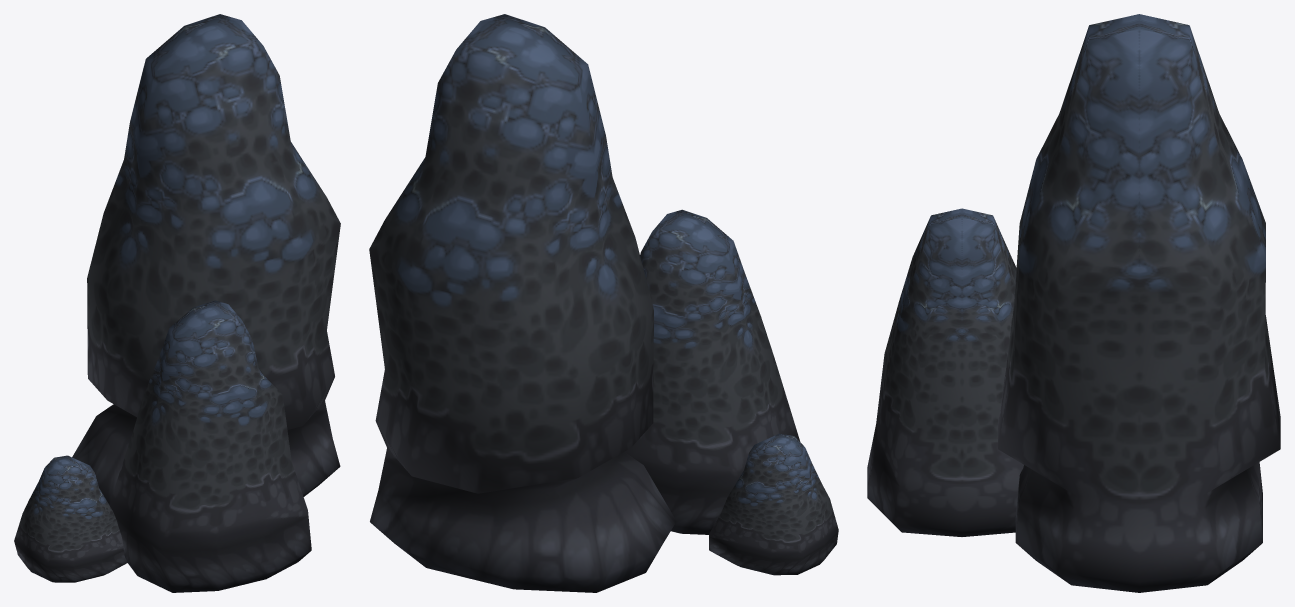
File: Rock_05_group.FBX
3 renders of one model, left to right at view 1: azimuth 30°, elevation 25°; view 2: azimuth 150°, elevation 25°; view 3: azimuth 270°, elevation 25°, orthographic. The views are drawn at different scales.
Visible parts, largest first — view 1: Rock_05_group; view 2: Rock_05_group; view 3: Rock_05_group.
Part boxes in pixels (bbox=[...]): Rock_05_group: bbox=[14, 14, 340, 592]; Rock_05_group: bbox=[369, 14, 838, 592]; Rock_05_group: bbox=[867, 14, 1280, 592].
Size of the model in its own units: 109 by 140 by 99.02.
